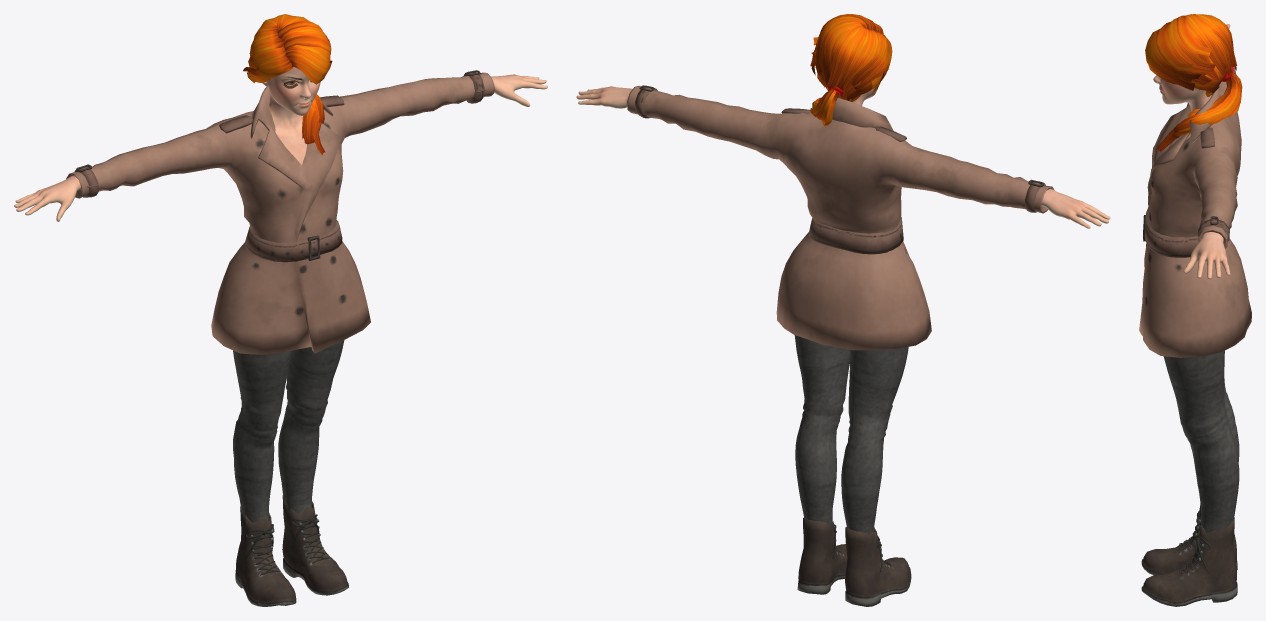
File: new_girl.obj
The picture shows the model from 3 angles, left to right: view 1: azimuth 30°, elevation 25°; view 2: azimuth 150°, elevation 25°; view 3: azimuth 270°, elevation 25°; orthographic projection.
Visible parts, largest first — view 1: Tops, Bottoms, Shoes, Hair, Body; view 2: Tops, Bottoms, Shoes, Hair, Body; view 3: Tops, Bottoms, Hair, Shoes, Body.
Boxes of the visible parts, x1,y1,x2,y2 form: Tops: (66,70,494,354); Bottoms: (233,340,344,522); Shoes: (235,495,348,606); Hair: (243,14,332,155); Body: (14,66,547,221); Tops: (627,85,1054,350); Bottoms: (794,335,908,535); Shoes: (797,517,911,606); Hair: (810,14,892,126); Body: (576,83,1110,228); Tops: (1139,66,1251,357); Bottoms: (1163,350,1239,533); Hair: (1145,14,1242,151); Shoes: (1141,504,1237,606); Body: (1153,24,1230,279).
Size of the model in its own units: 179 by 184 by 33.01.
1 material, 1 textured.
